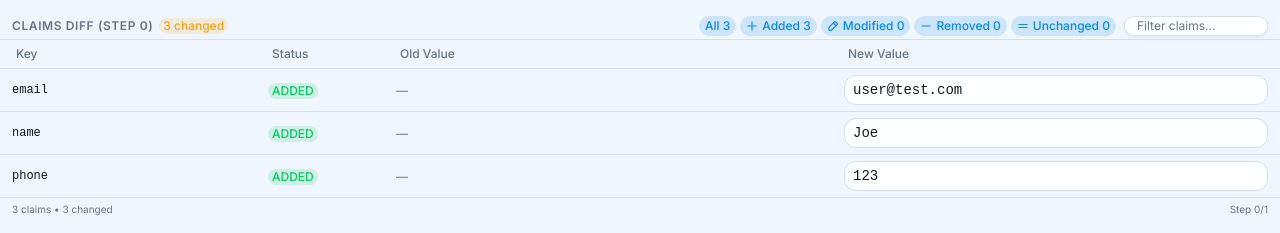
ClaimsDiffTable › filters rows by text input matching claim key
The width and height of the screenshot is (1280, 233).
Expected: the text "ADDED" is shown 3 times, [268,82,318,98]; [268,126,318,142]; [268,168,318,184]
Type "email" into the field with test id "claims-filter-input".
click(1196, 26); type("email")  # box [1124,16,1268,36]
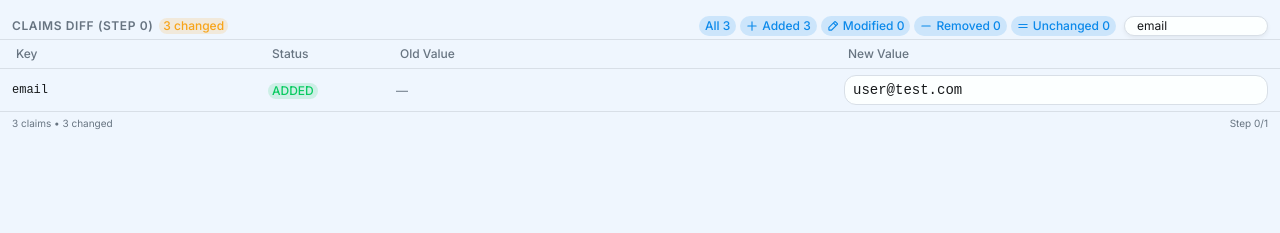
Expected: the text "email" is shown, [12,82,48,96]
Expected: the text "ADDED" is shown once, [268,82,318,98]
